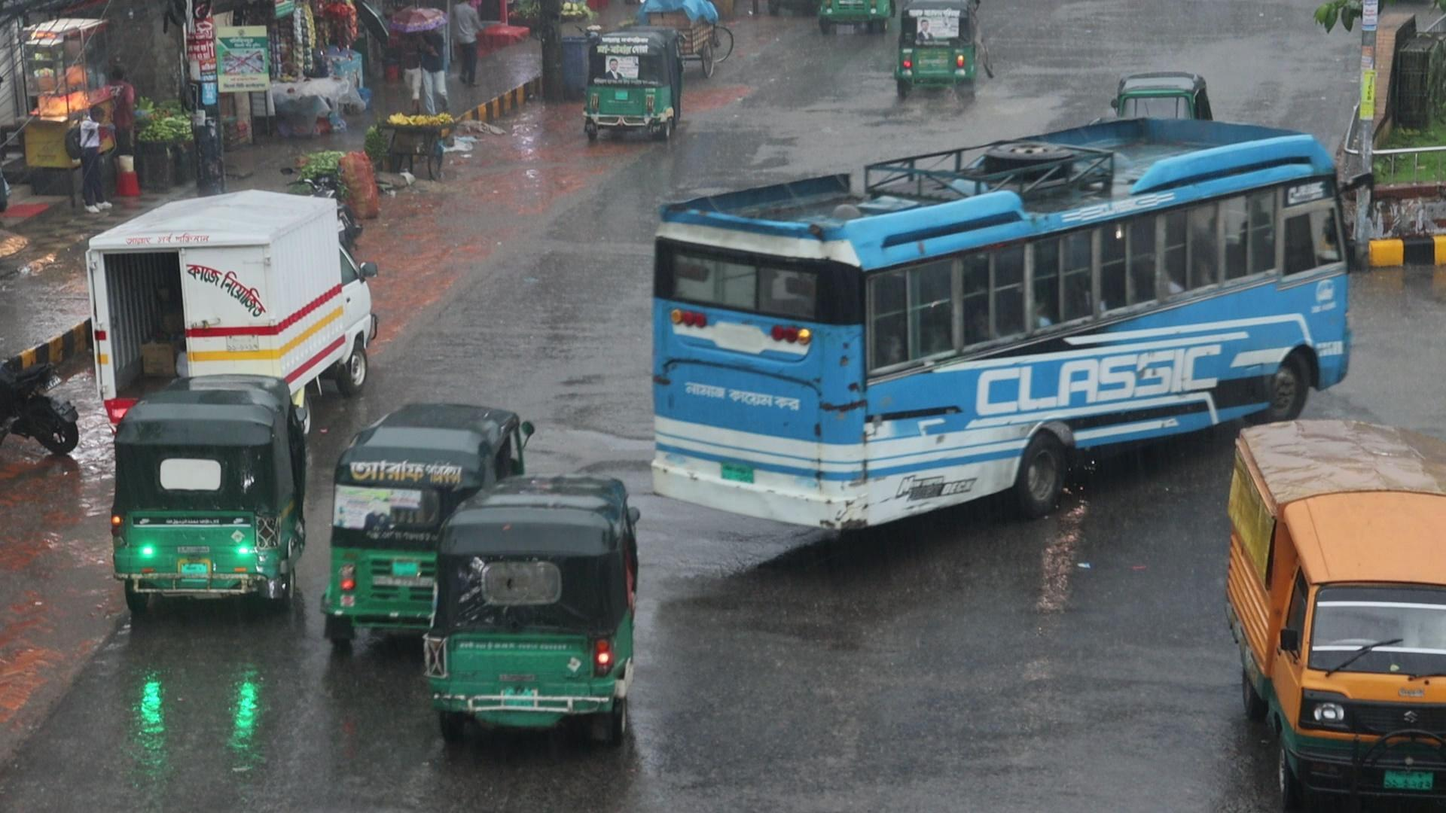Bus: (639, 113, 1359, 425)
Truck: (1223, 417, 1446, 805)
